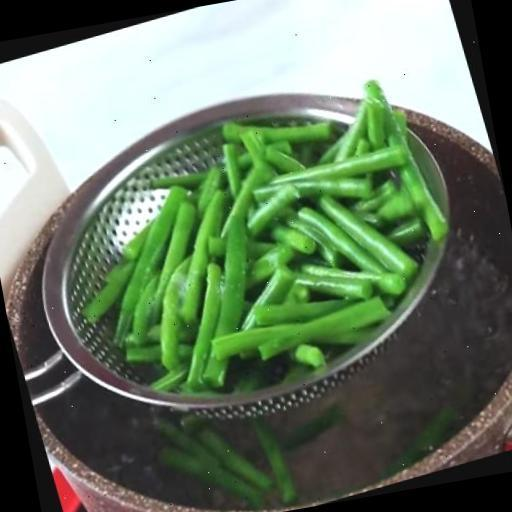buncis_rebus: (22, 52, 488, 446)
